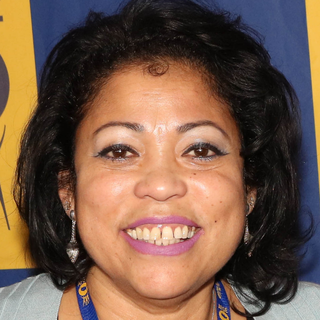eye: (176, 139, 231, 164), (95, 141, 143, 165)
